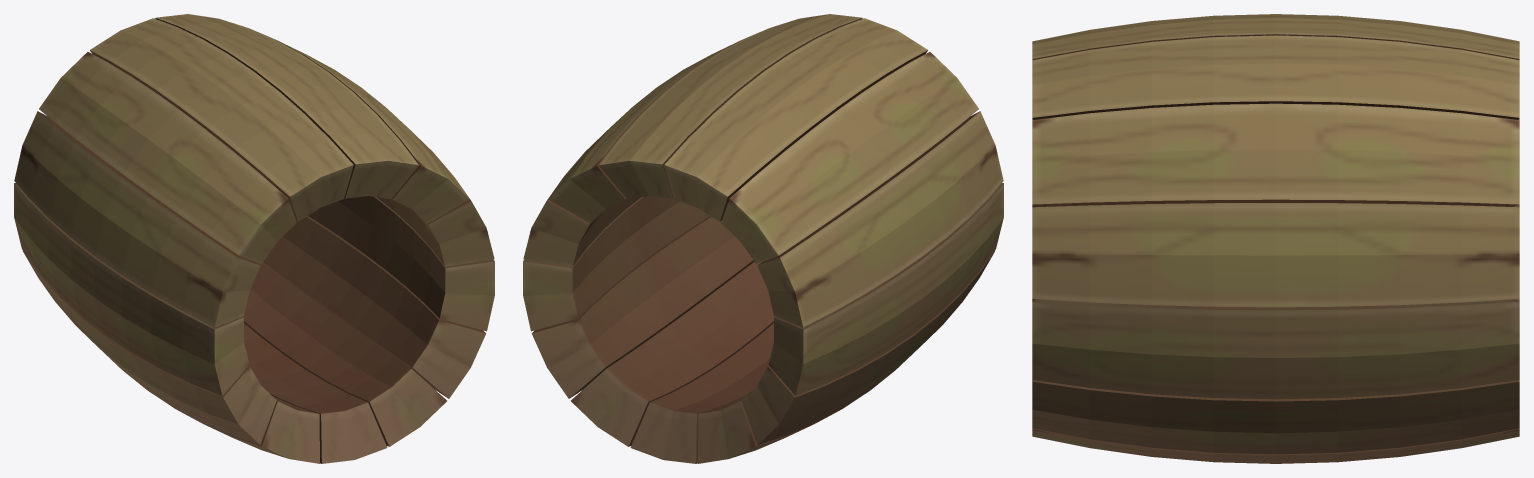
Rendered from buildobjeto.glb.
3 renders of one model, left to right at view 1: azimuth 30°, elevation 25°; view 2: azimuth 150°, elevation 25°; view 3: azimuth 270°, elevation 25°, orthographic. The views are drawn at different scales.
Parts seen in each view (by area): view 1: objeto; view 2: objeto; view 3: objeto.
Boxes of the visible parts, box(x1,y1,x2,y2) form: objeto: box(14, 14, 494, 463); objeto: box(523, 14, 1003, 463); objeto: box(1032, 14, 1519, 463).
Size of the model in its own units: 2.98 by 3 by 3.24.
Materials: 1 (1 with a texture image).
